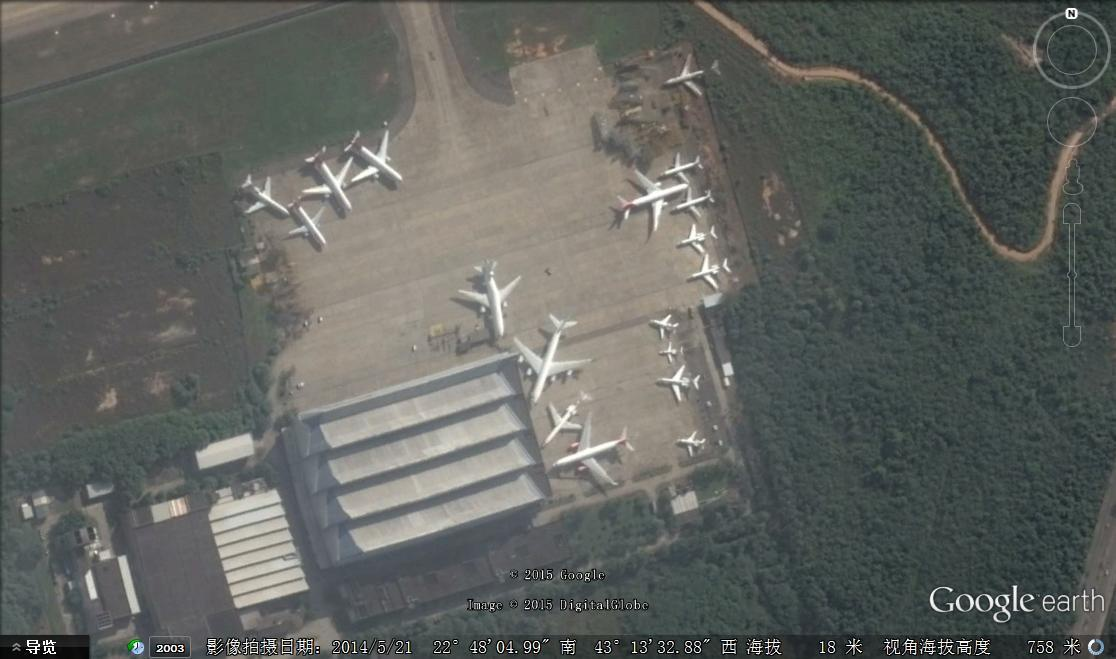aircraft: (510, 310, 596, 404), (549, 407, 639, 492), (453, 259, 526, 341), (614, 169, 691, 236), (339, 122, 407, 195), (296, 143, 358, 214), (659, 49, 730, 103), (541, 389, 597, 450), (235, 170, 295, 224), (282, 190, 333, 252), (684, 250, 738, 296), (655, 362, 707, 409), (671, 182, 724, 223), (658, 151, 710, 189), (675, 219, 722, 255), (673, 424, 715, 463), (645, 310, 682, 341), (657, 338, 691, 365)
